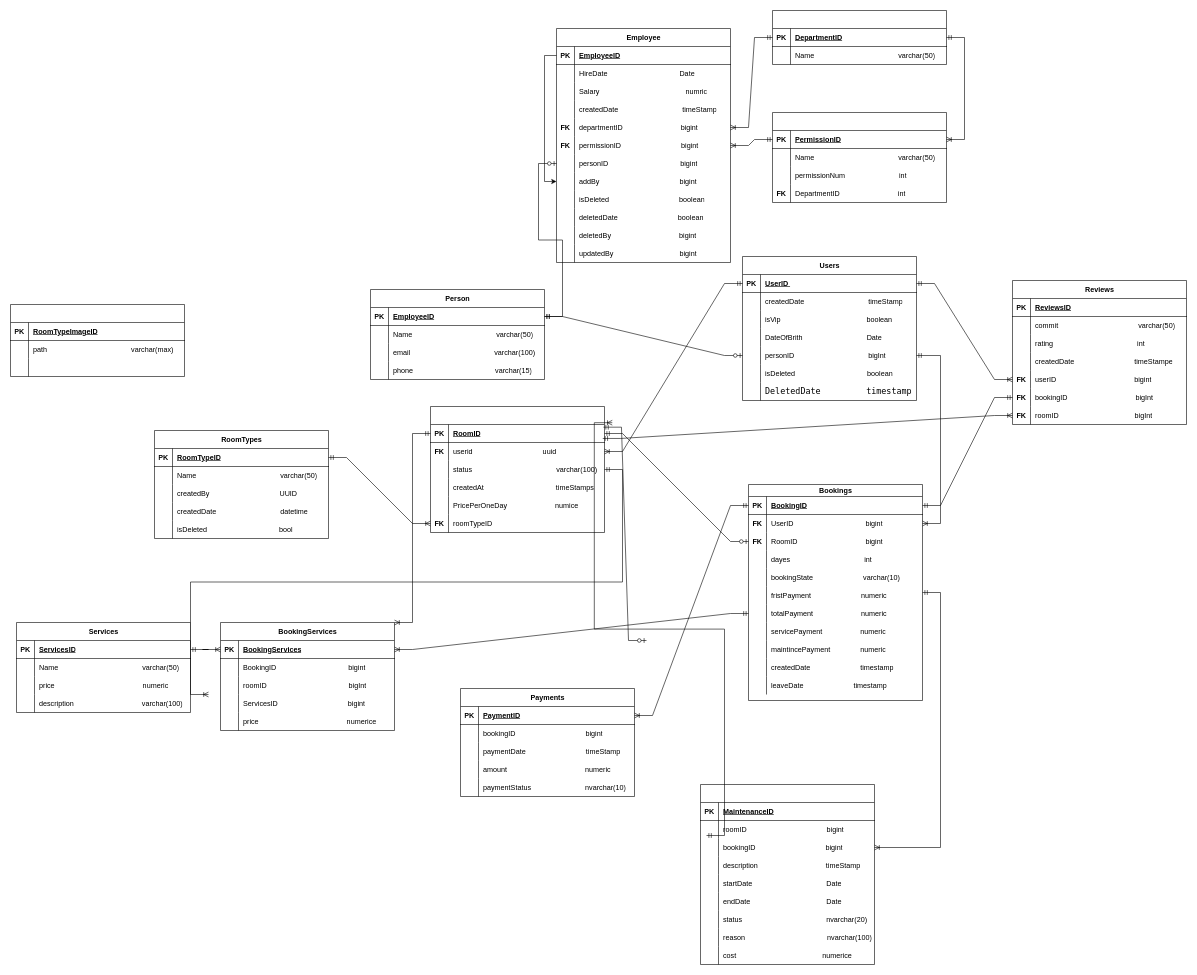
Some shapes in this 1197 by 975 pixel diagram are drawn without their labels. Each missing label, with the box of its shape:
Departments: (772, 10, 946, 64)
Maintainces: (700, 784, 874, 964)
Permissions: (772, 112, 946, 202)
Rooms: (430, 406, 604, 532)
RoomTypeImages: (10, 304, 184, 376)
